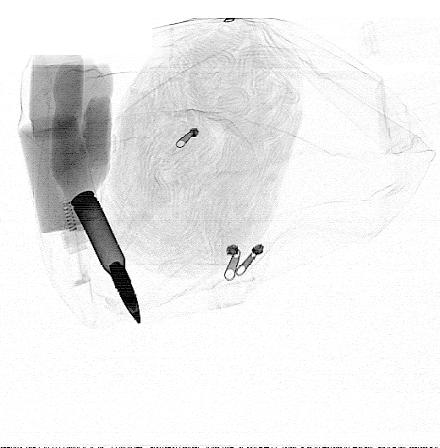Bullet: (69, 190, 142, 326)
